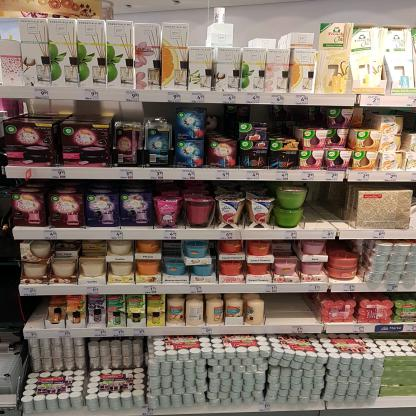Void: (310, 188, 354, 226), (24, 104, 136, 118), (267, 296, 320, 324), (0, 299, 42, 327), (208, 103, 238, 134), (269, 107, 294, 139), (338, 106, 374, 125), (303, 106, 327, 125), (140, 104, 174, 117), (242, 104, 265, 120), (404, 110, 412, 129)
